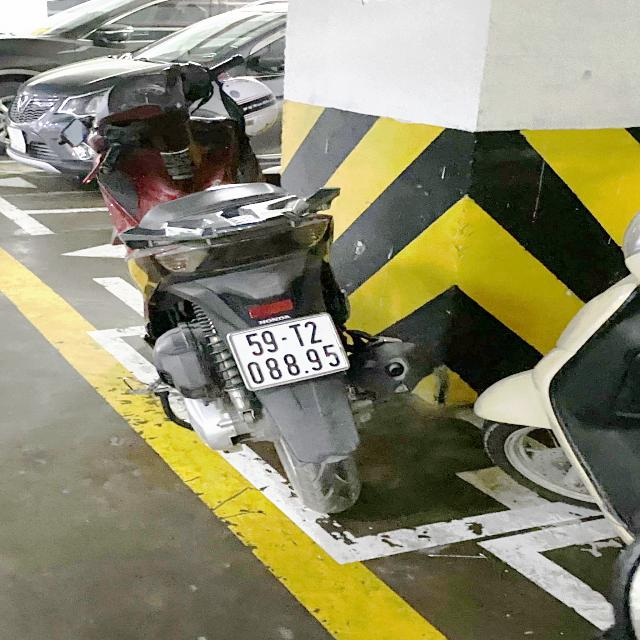license_plate: (223, 311, 354, 394)
